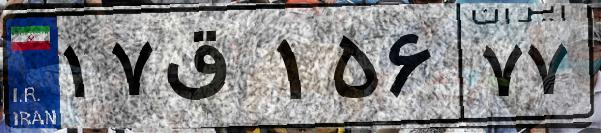1: (270, 28, 330, 110), (57, 26, 110, 100)
5: (330, 28, 385, 110)
6: (385, 28, 445, 110)
7: (475, 38, 525, 113), (525, 38, 570, 115), (110, 28, 158, 98)
ق: (158, 20, 270, 120)
